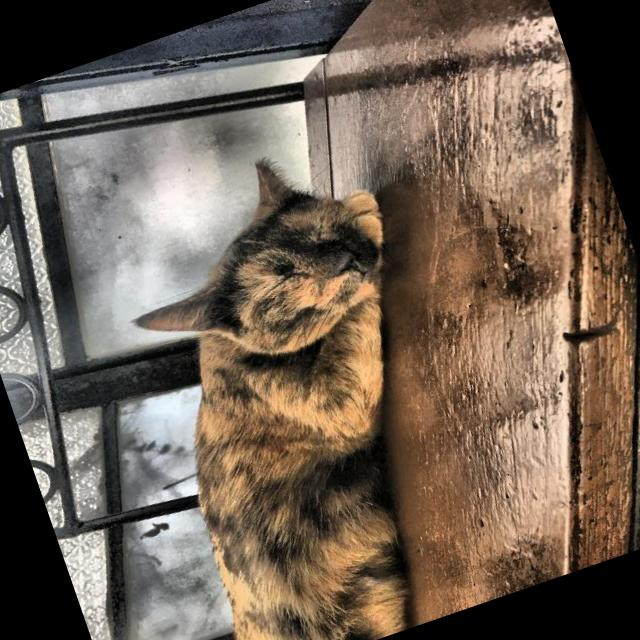Healthy skin: (223, 502, 363, 636), (229, 324, 345, 437)
